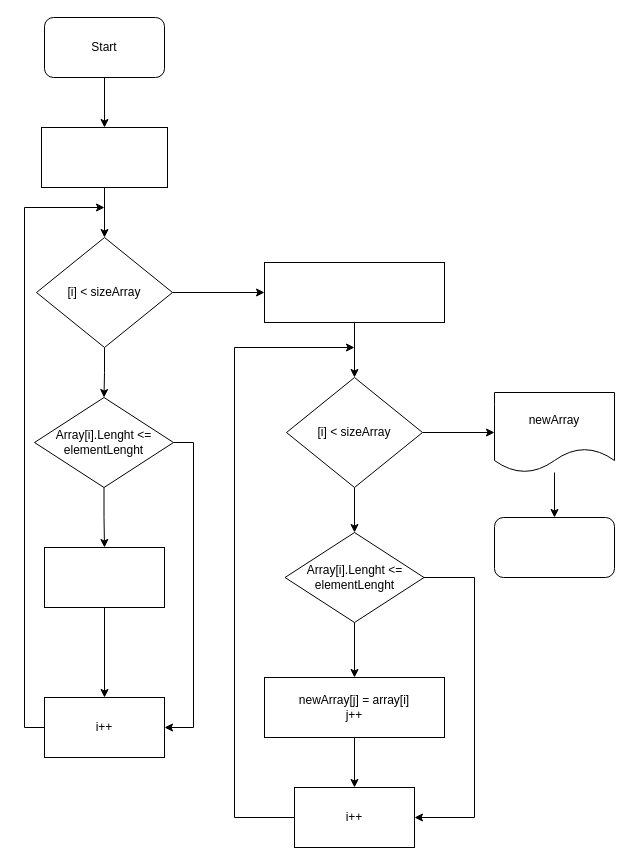
The diagram is 632 pixels wide and 865 high, and some of its shapes have lost their labels. Each missing label, with the centre of its shape:
End: the point at 554,547
lenghtNewArray++: the point at 104,577
string newArray = new string[lenghtNewArray] i = 0 j = 0: the point at 354,292
string[] array int elementLenght = 3 int lenghtNewArray = 0: the point at 104,157
